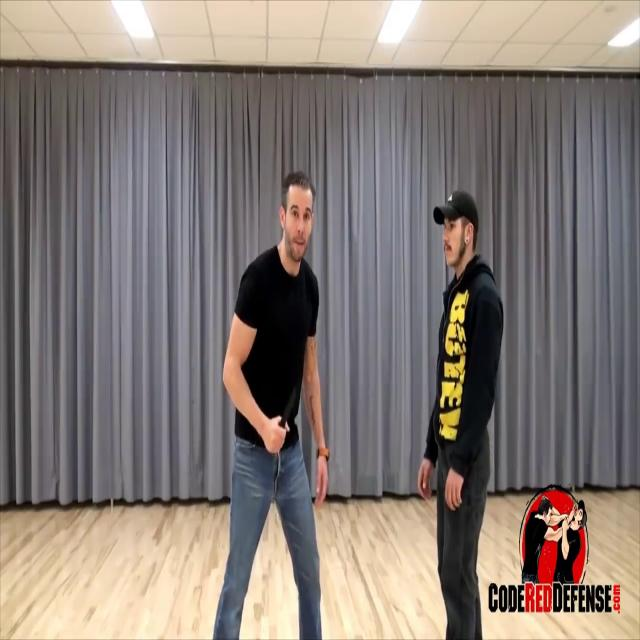Knife_Handle: (263, 388, 296, 453)
